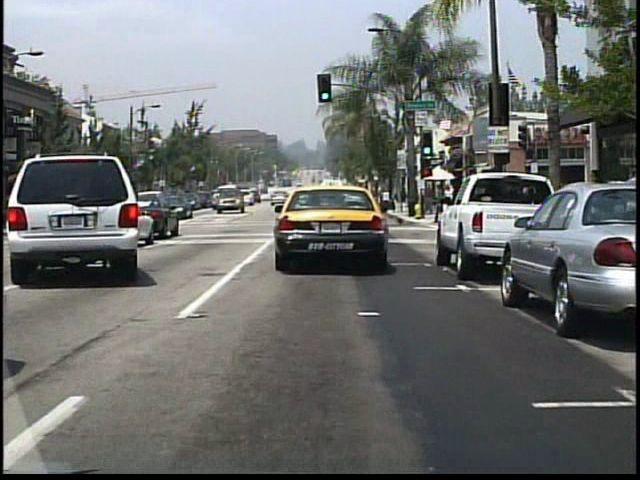person: (584, 167, 608, 254), (422, 181, 434, 217)
